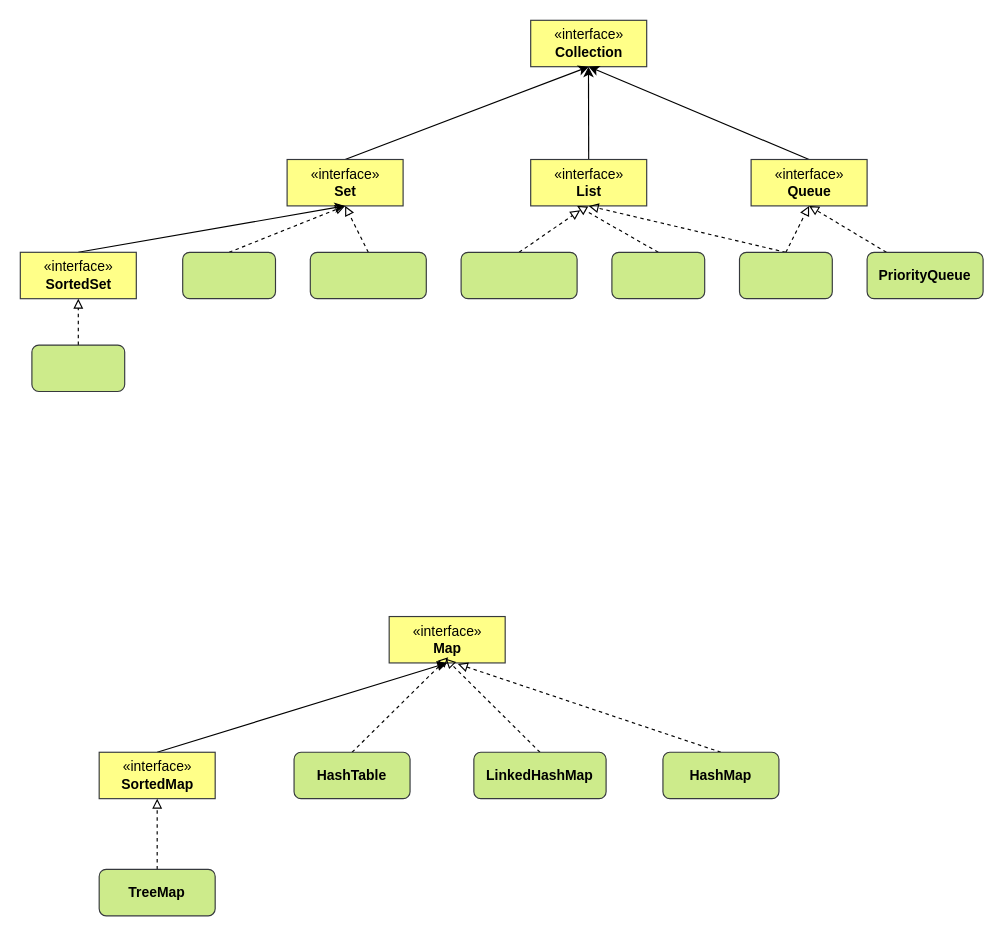
This 1003x936 diagram has some shape labels left out. The centre of each missing label's shape, as x and y in pixels:
"ArrayList" goes at pixel 518 275.
"HashSet" goes at pixel 229 275.
"LinkedHashSet" goes at pixel 367 275.
"LinkedList" goes at pixel 785 275.
"TreeSet" goes at pixel 78 368.
"Vector" goes at pixel 658 275.
